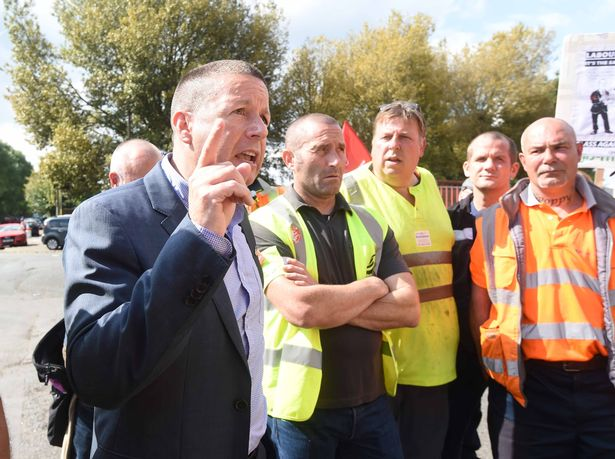noepi: (63, 55, 270, 455), (353, 102, 472, 459), (272, 103, 383, 459), (502, 119, 615, 438), (453, 130, 526, 285)
